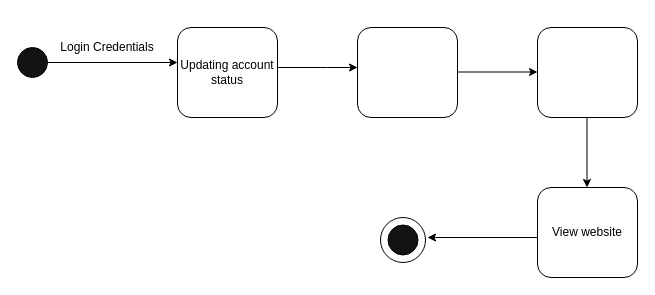
Image size: 655x295. Some labels were removed from this diagram. Here are the shapes that lost their labels. From the top down, the centre of each, then its label:
At pixel 407 72: "Launch new product".
At pixel 587 72: "Offer a discount".
